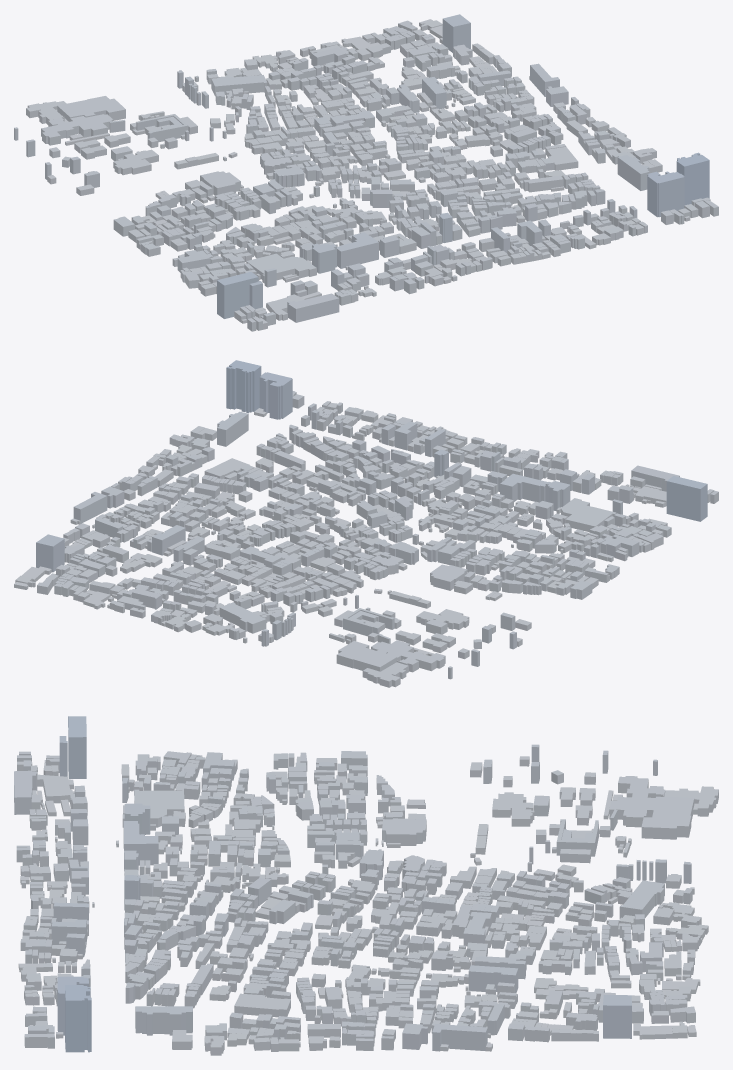
The picture shows the model from 3 angles, top to bottom: view 1: azimuth 30°, elevation 25°; view 2: azimuth 150°, elevation 25°; view 3: azimuth 270°, elevation 25°; orthographic projection. The views are drawn at different scales.
Bounding box in the file's own units: 520 × 42.2 × 520.
